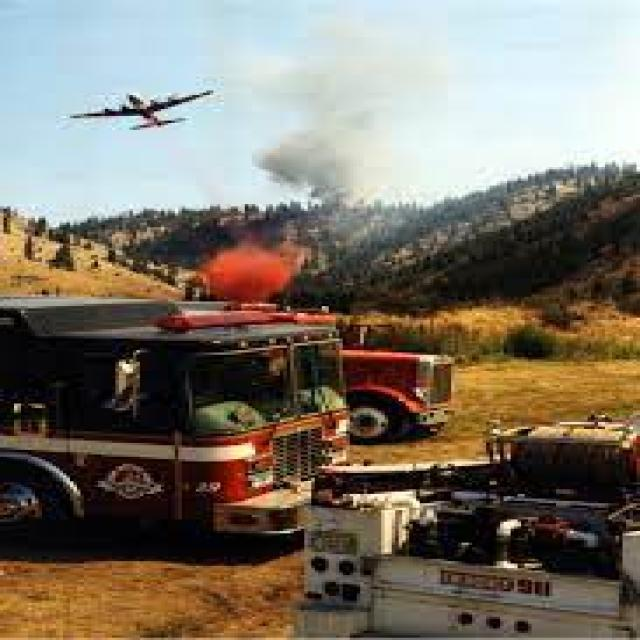Smoke: (232, 0, 457, 220)
